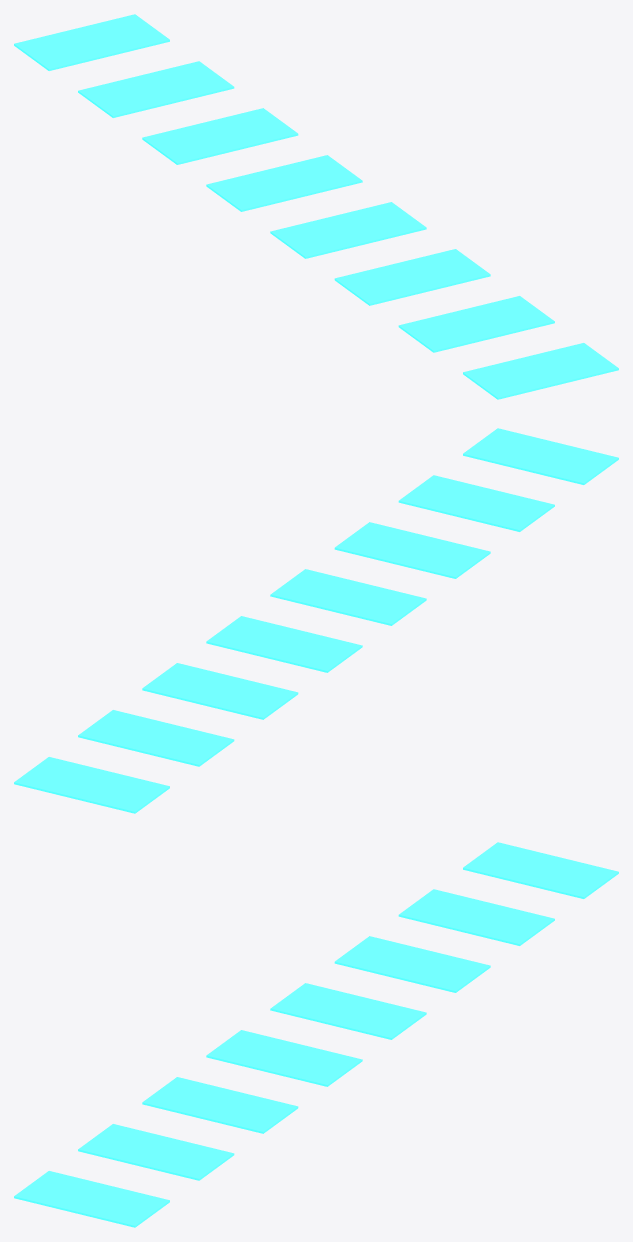
The model's file is Road_TJunction_12m_Crosswalk_0_1.glb.
3 views of the same model, one above another, from view 1: azimuth 30°, elevation 25°; view 2: azimuth 150°, elevation 25°; view 3: azimuth 330°, elevation 25° (orthographic).
Parts seen in each view (by area): view 1: Road_TJunction_12m_Crosswalk_0_1; view 2: Road_TJunction_12m_Crosswalk_0_1; view 3: Road_TJunction_12m_Crosswalk_0_1.
Part boxes in pixels (<box>): Road_TJunction_12m_Crosswalk_0_1: <box>14,14,618,399</box>; Road_TJunction_12m_Crosswalk_0_1: <box>14,428,618,813</box>; Road_TJunction_12m_Crosswalk_0_1: <box>14,842,618,1227</box>.
Size of the model in its own units: 1.2 by 0.018 by 8.3.
